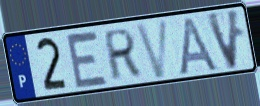2: (35, 35, 68, 92)
A: (177, 15, 220, 78)
E: (63, 29, 110, 90)
R: (103, 26, 142, 83)
V: (204, 7, 242, 73), (133, 17, 171, 81)
